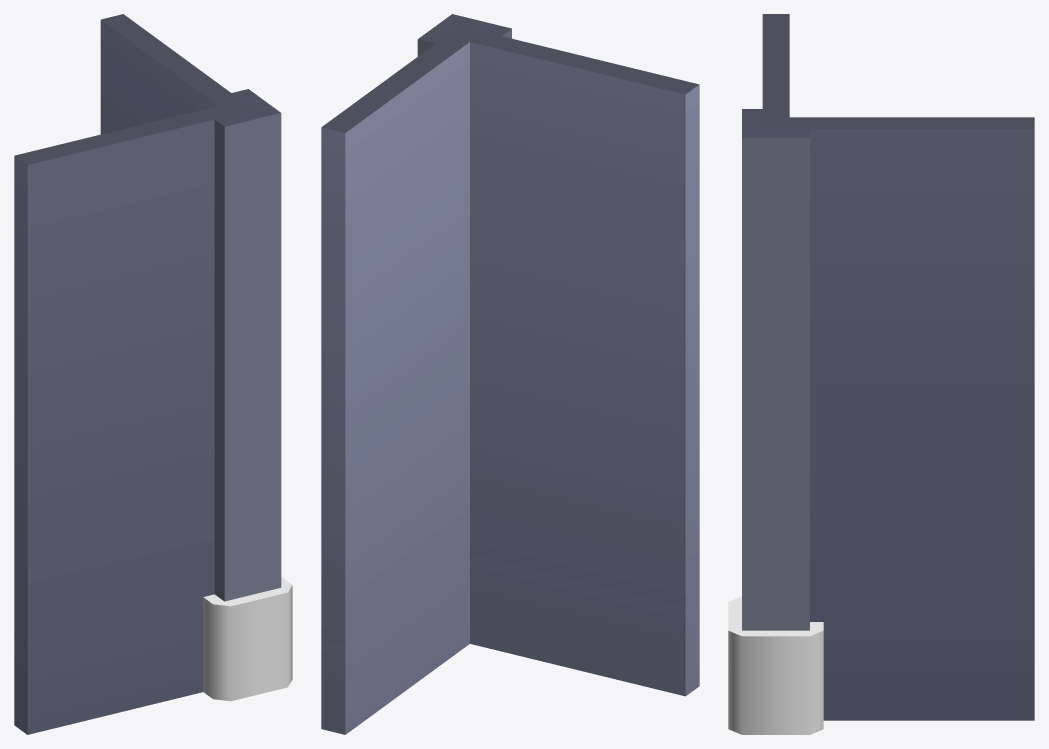
Rendered from kenney-building-wall-corner-column-small-bottom.glb.
3 views of the same model, side by side, from view 1: azimuth 30°, elevation 25°; view 2: azimuth 150°, elevation 25°; view 3: azimuth 270°, elevation 25° (orthographic). The views are drawn at different scales.
Visible parts, largest first — view 1: wall-corner-column-small-bottom; view 2: wall-corner-column-small-bottom; view 3: wall-corner-column-small-bottom.
Boxes of the visible parts, x1,y1,x2,y2 form: wall-corner-column-small-bottom: [14, 14, 292, 734]; wall-corner-column-small-bottom: [321, 14, 699, 734]; wall-corner-column-small-bottom: [728, 14, 1034, 734].
Bounding box in the file's own units: 1.13 × 2.4 × 1.13.
Materials: 1 (1 with a texture image).
